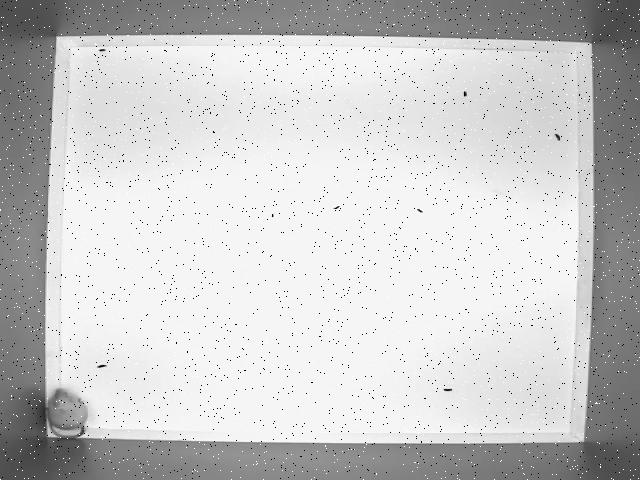Tikus: (42, 384, 92, 440)
